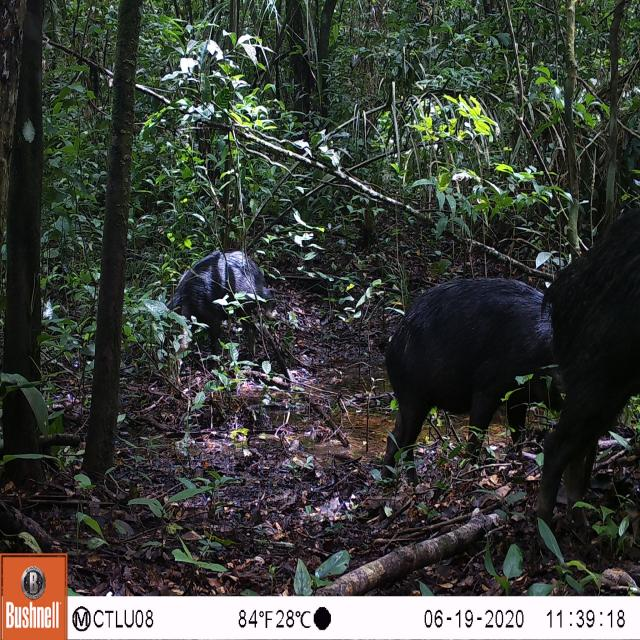Collared Peccary: (523, 195, 640, 542), (371, 272, 558, 480), (169, 236, 287, 375)
